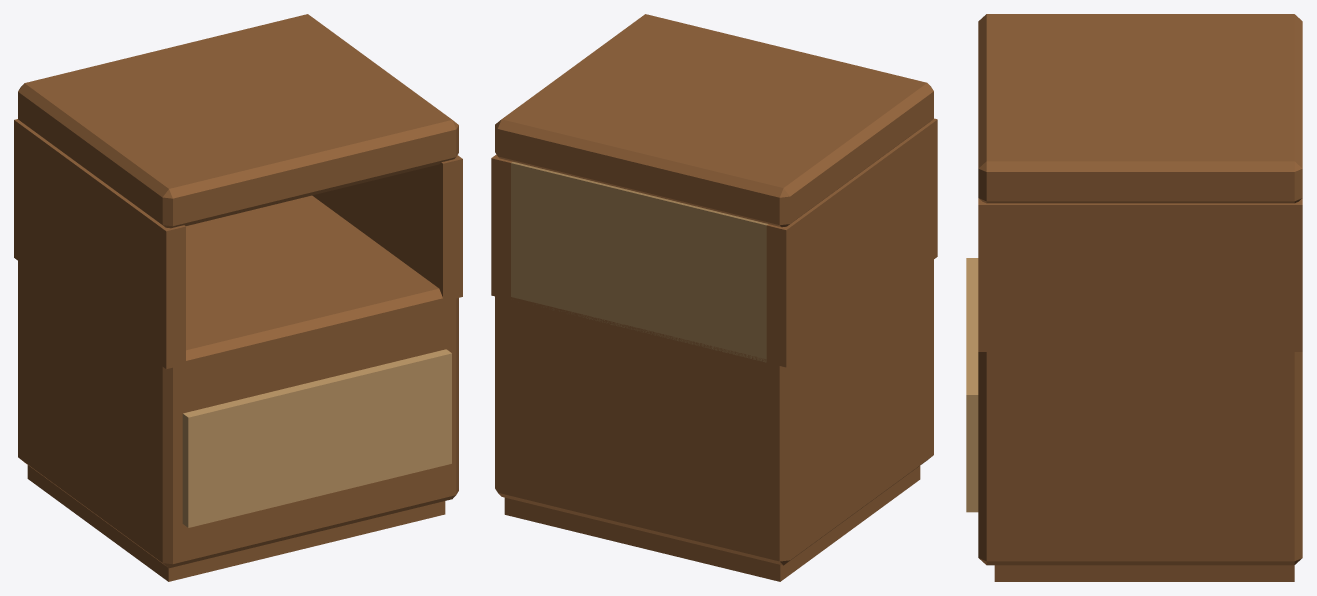
File: nightstand_body.glb
3 views of the same model, side by side, from view 1: azimuth 30°, elevation 25°; view 2: azimuth 150°, elevation 25°; view 3: azimuth 270°, elevation 25° (orthographic). The views are drawn at different scales.
Visible parts, largest first — view 1: nightstand_body; view 2: nightstand_body; view 3: nightstand_body.
Part boxes in pixels (left/top/right/bottom): nightstand_body: left=14, top=14, right=462, bottom=581; nightstand_body: left=491, top=14, right=937, bottom=581; nightstand_body: left=966, top=14, right=1302, bottom=581.
Bounding box in the file's own units: 0.45 × 0.575 × 0.415.
